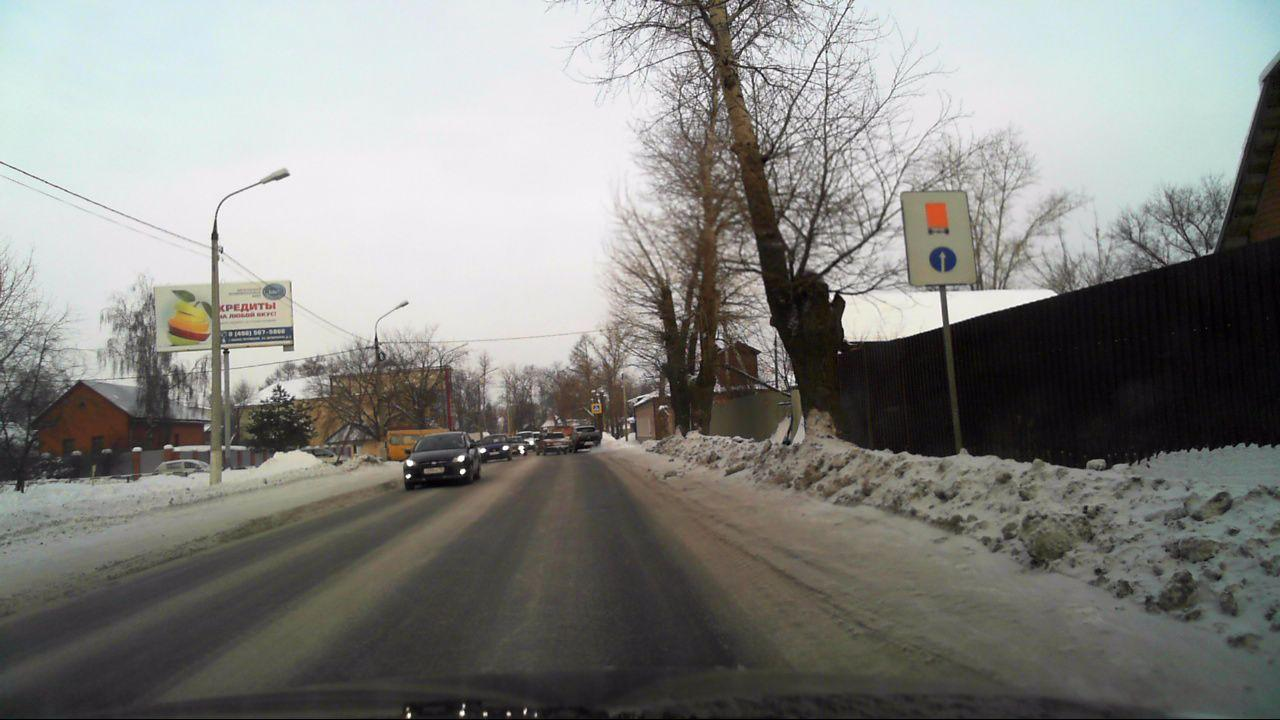4_8_1: (900, 188, 976, 286)
5_19_1: (593, 405, 601, 412)
